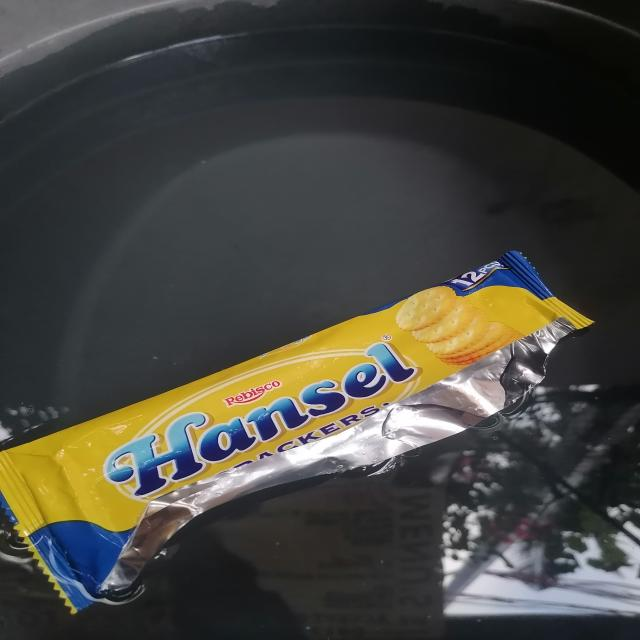Plastic Wrapper: (0, 251, 593, 610)
